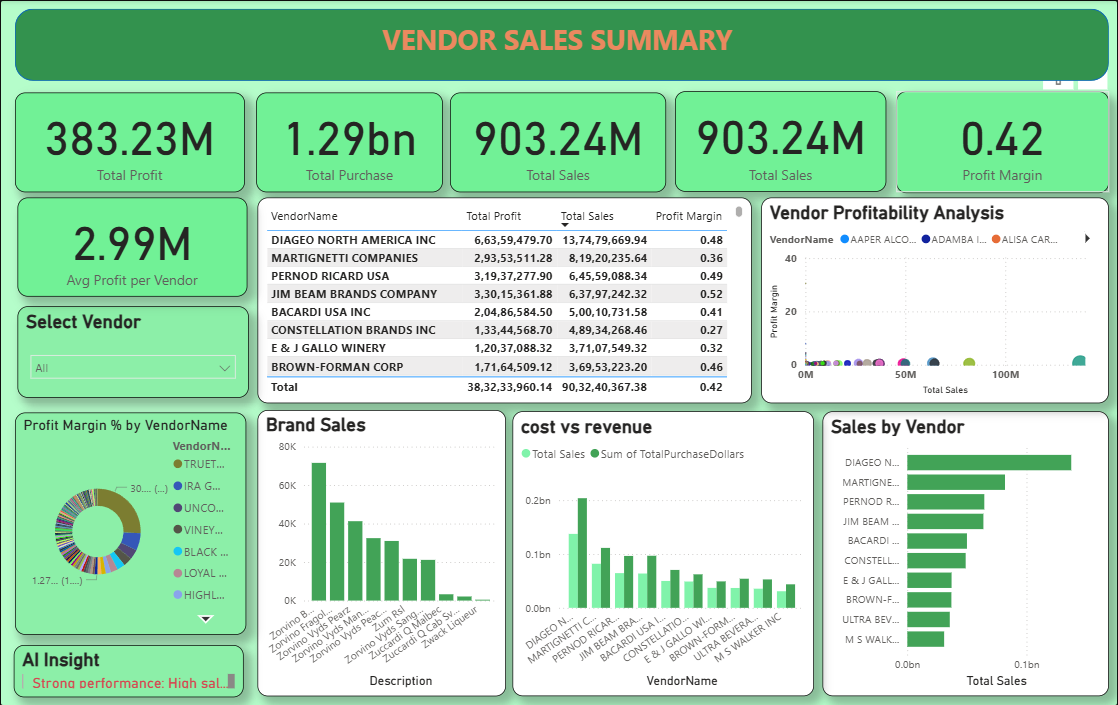

What the dashboard file says about the page in this screenshot:
{"tool":"powerbi","page":{"name":"Page 1","canvas":[1300,820],"ordinal":0},"visuals":[{"type":"card","fields":{"Values":["vendor_sales_summary.Total Profit"]},"box":[17.1,107.1,267.1,115.7],"z":0},{"type":"card","fields":{"Values":["vendor_sales_summary.Total Purchase"]},"box":[297.1,107.1,217.1,115.7],"z":1000},{"type":"card","fields":{"Values":["vendor_sales_summary.Total Sales"]},"box":[522.9,107.1,251.4,115.7],"z":2000},{"type":"card","fields":{"Values":["vendor_sales_summary.Total Sales"]},"box":[784.3,105.7,245.7,117.1],"z":3000},{"type":"card","fields":{"Values":["vendor_sales_summary.Profit Margin"]},"box":[1041.4,105.7,247.1,118.6],"z":4000},{"type":"clusteredBarChart","title":"Sales by Vendor","fields":{"Category":["vendor_sales_summary.VendorName"],"Y":["vendor_sales_summary.Total Sales"]},"box":[955.7,478.6,332.9,331.4],"z":5000},{"type":"tableEx","fields":{"Values":["vendor_sales_summary.VendorName","vendor_sales_summary.Total Profit","vendor_sales_summary.Total Sales","vendor_sales_summary.Profit Margin"]},"box":[298.7,229.5,574.4,239.6],"z":6000},{"type":"slicer","title":"Select Vendor","fields":{"Values":["vendor_sales_summary.VendorName","vendor_sales_summary.Description"]},"box":[20.2,356.5,268.4,106.8],"z":7000},{"type":"clusteredColumnChart","title":"Brand Sales","fields":{"Category":["vendor_sales_summary.Description"],"Y":["vendor_sales_summary.Total Sales"]},"box":[299.3,476.5,289.1,332.7],"z":8000},{"type":"scatterChart","title":"Vendor Profitability Analysis","fields":{"X":["vendor_sales_summary.Total Sales"],"Y":["vendor_sales_summary.Profit Margin"],"Series":["vendor_sales_summary.VendorName"],"Size":["Sum(vendor_sales_summary.TotalSalesQuantity)"]},"box":[884.7,229.5,404.1,239.6],"z":9000},{"type":"clusteredColumnChart","title":"cost vs revenue","fields":{"Category":["vendor_sales_summary.VendorName"],"Y":["vendor_sales_summary.Total Sales","Sum(vendor_sales_summary.TotalPurchaseDollars)"]},"box":[595.7,478.6,350,331.4],"z":10000},{"type":"shape","box":[17.3,10.1,1271.4,83.7],"z":11000},{"type":"textbox","box":[179,18.8,938.1,64.9],"z":12000},{"type":"donutChart","fields":{"Category":["vendor_sales_summary.VendorName"],"Y":["vendor_sales_summary.Profit Margin %"]},"box":[17.3,479.1,268.4,258.3],"z":13000},{"type":"multiRowCard","title":"AI Insight","fields":{"Values":["vendor_sales_summary.AI Insight"]},"box":[15.9,749,267,60.6],"z":14000},{"type":"card","fields":{"Values":["vendor_sales_summary.Avg Profit per Vendor"]},"box":[20.2,229.5,267,115.5],"z":15000}]}

Visuals, with their boxes in screenshot pixels (x1, y1, x2, y2), scaled from the page's 1300x820 canvas onto the 1118x705 screenshot:
card - vendor_sales_summary.Total Profit: 15,92,244,192
card - vendor_sales_summary.Total Purchase: 256,92,442,192
card - vendor_sales_summary.Total Sales: 450,92,666,192
card - vendor_sales_summary.Total Sales: 674,91,886,192
card - vendor_sales_summary.Profit Margin: 896,91,1108,193
"Sales by Vendor" clusteredBarChart: 822,411,1108,696
tableEx - vendor_sales_summary.VendorName x vendor_sales_summary.Total Profit: 257,197,751,403
"Select Vendor" slicer: 17,307,248,398
"Brand Sales" clusteredColumnChart: 257,410,506,696
"Vendor Profitability Analysis" scatterChart: 761,197,1108,403
"cost vs revenue" clusteredColumnChart: 512,411,813,696
shape: 15,9,1108,81
textbox: 154,16,961,72
donutChart - vendor_sales_summary.VendorName x vendor_sales_summary.Profit Margin %: 15,412,246,634
"AI Insight" multiRowCard: 14,644,243,696
card - vendor_sales_summary.Avg Profit per Vendor: 17,197,247,297
